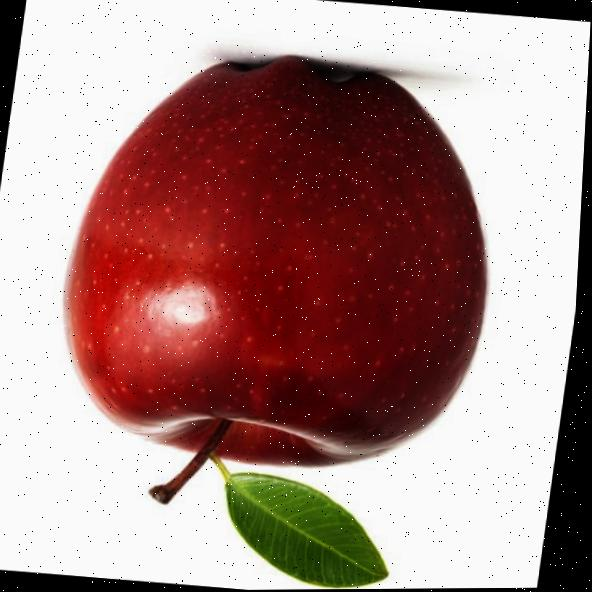HEALTHY: (19, 39, 545, 520)
